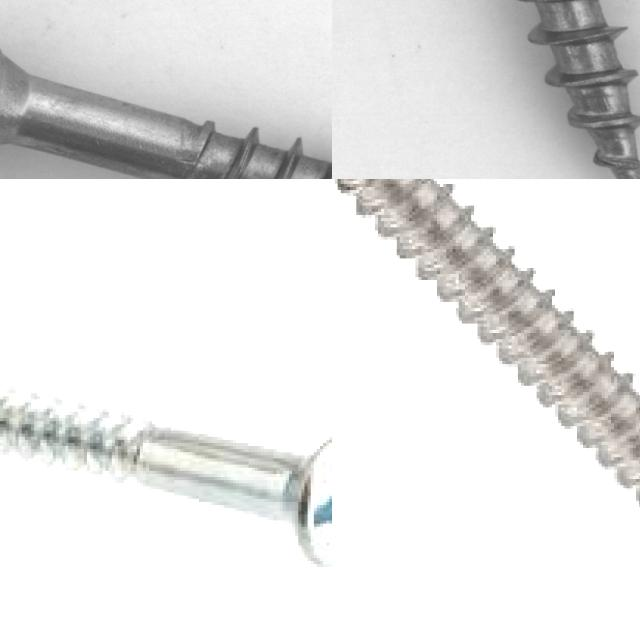Screw: (332, 179, 640, 509), (0, 384, 332, 570), (0, 0, 332, 179), (336, 0, 640, 179)
